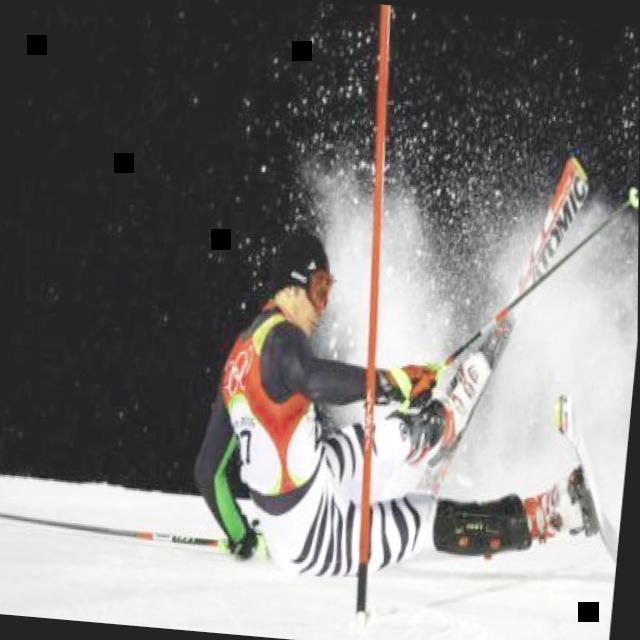Fall-Detected: (179, 190, 639, 616)
